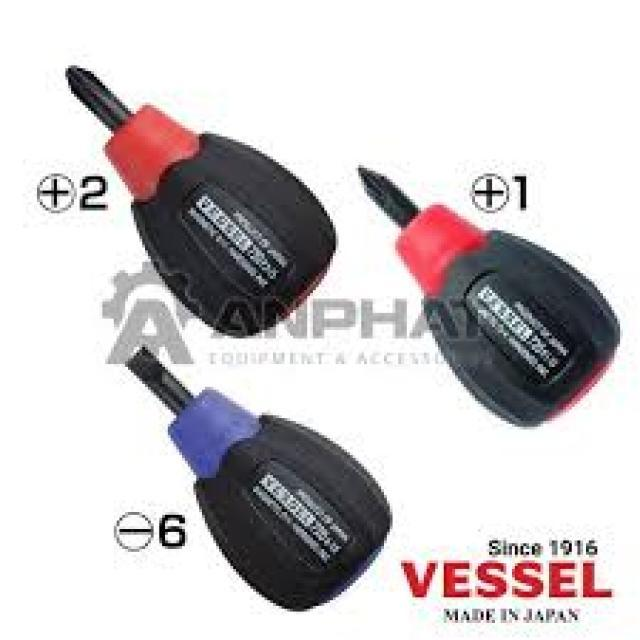screwdriver: (59, 57, 344, 347), (352, 158, 626, 442), (120, 346, 398, 614)
